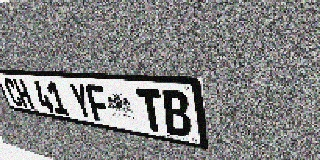1: (44, 81, 69, 116)
4: (32, 80, 55, 113)
B: (160, 90, 193, 138)
C: (2, 78, 24, 107)
F: (84, 84, 112, 123)
H: (12, 79, 35, 109)
T: (135, 88, 166, 133)
Y: (68, 83, 94, 120)
